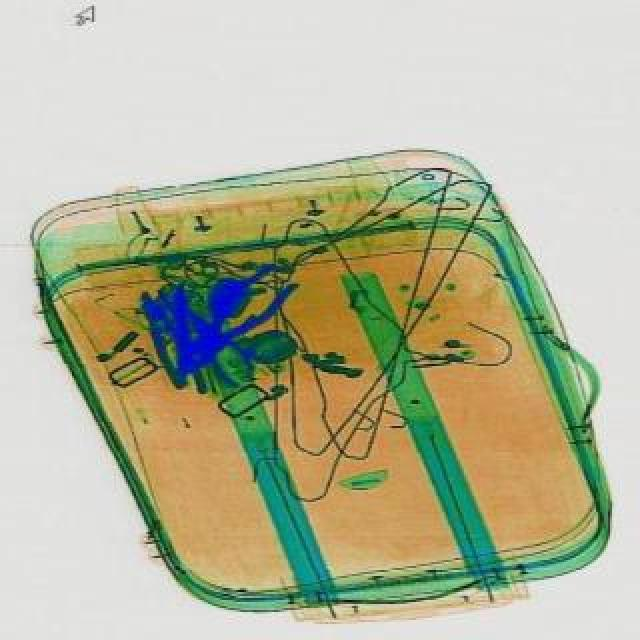wrench: (178, 256, 306, 382), (130, 284, 218, 402), (176, 298, 268, 394)
